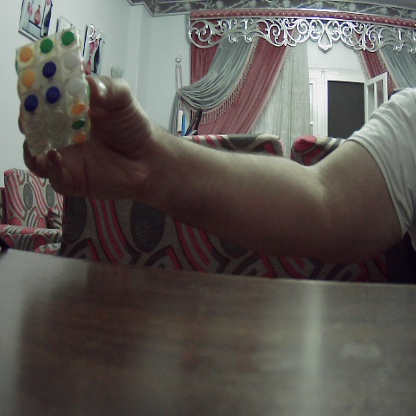Rubix Cube: (16, 34, 92, 157)
